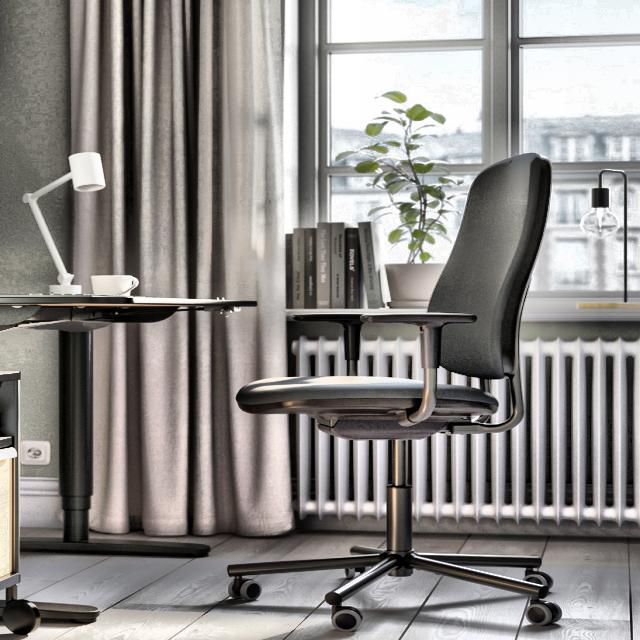cadeira: (217, 154, 573, 640)
